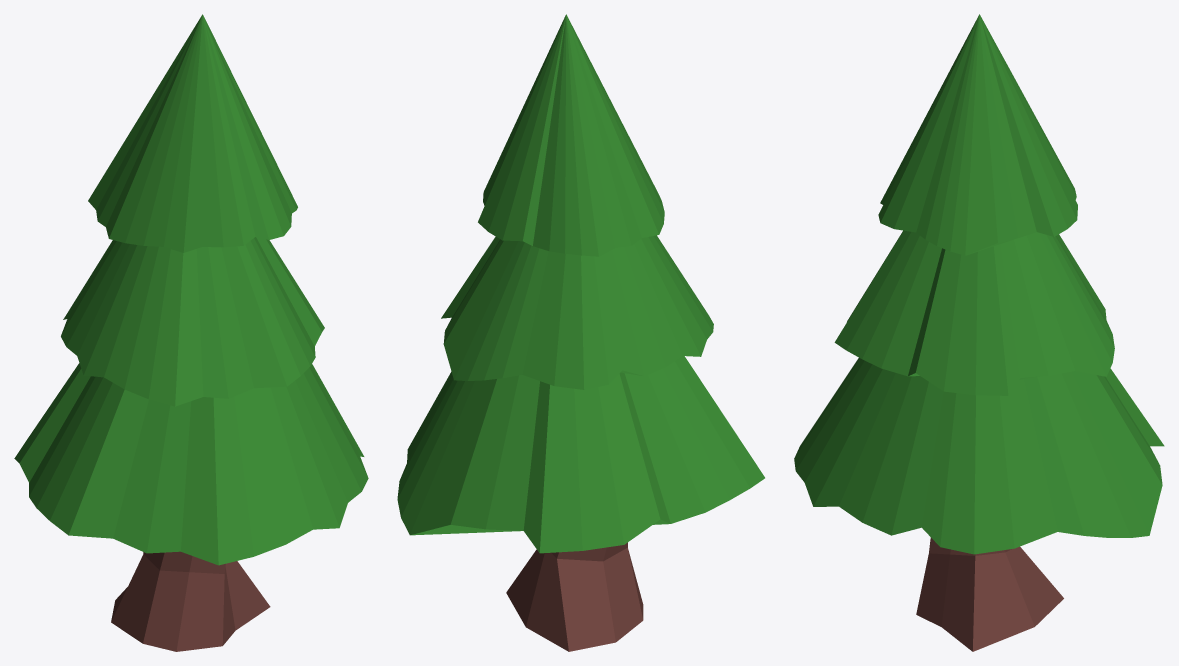
File: Arvore2.fbx
3 views of the same model, side by side, from view 1: azimuth 30°, elevation 25°; view 2: azimuth 150°, elevation 25°; view 3: azimuth 270°, elevation 25° (orthographic).
Parts seen in each view (by area): view 1: Cube.001; view 2: Cube.001; view 3: Cube.001.
Part boxes in pixels (x1,y1,x2,y2): Cube.001: [14, 14, 368, 651]; Cube.001: [397, 14, 764, 651]; Cube.001: [794, 14, 1164, 651].
Bounding box in the file's own units: 963 × 1738 × 963.
